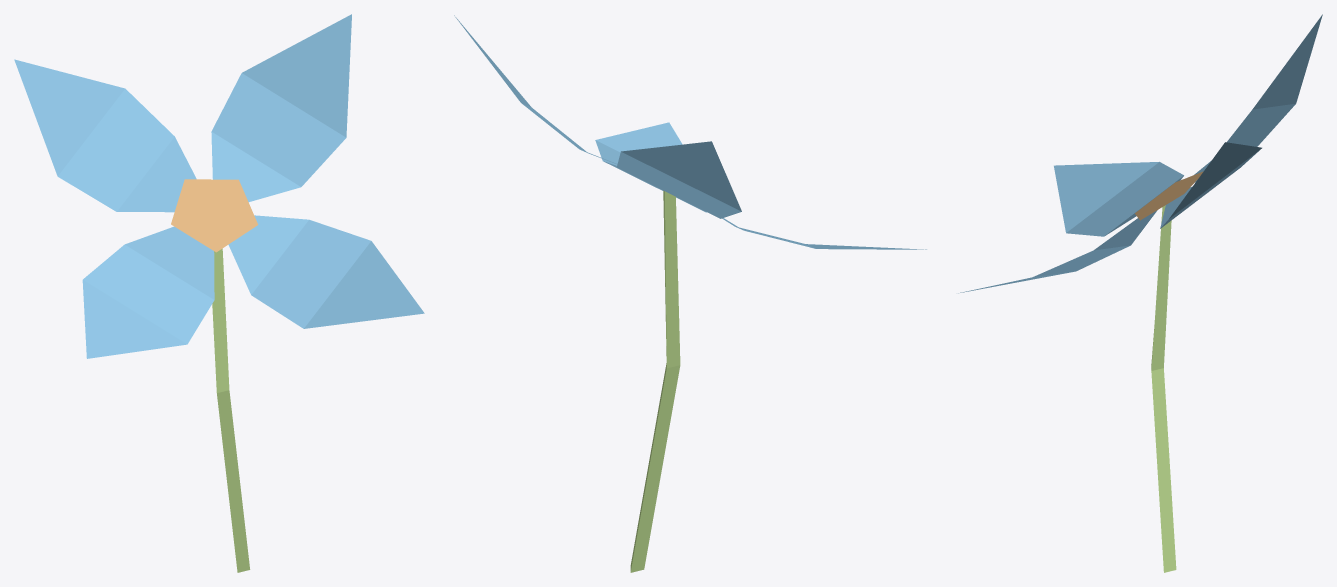
Rendered from Flower_a_TwoS_04.fbx.
3 renders of one model, left to right at view 1: azimuth 30°, elevation 25°; view 2: azimuth 150°, elevation 25°; view 3: azimuth 270°, elevation 25°, orthographic. The views are drawn at different scales.
Visible parts, largest first — view 1: Flower_a_TwoS_04; view 2: Flower_a_TwoS_04; view 3: Flower_a_TwoS_04.
Boxes of the visible parts, left/top/right/bottom form: Flower_a_TwoS_04: left=14, top=14, right=424, bottom=572; Flower_a_TwoS_04: left=454, top=15, right=926, bottom=572; Flower_a_TwoS_04: left=958, top=14, right=1322, bottom=572.
Bounding box in the file's own units: 48.23 × 65.56 × 44.05.
